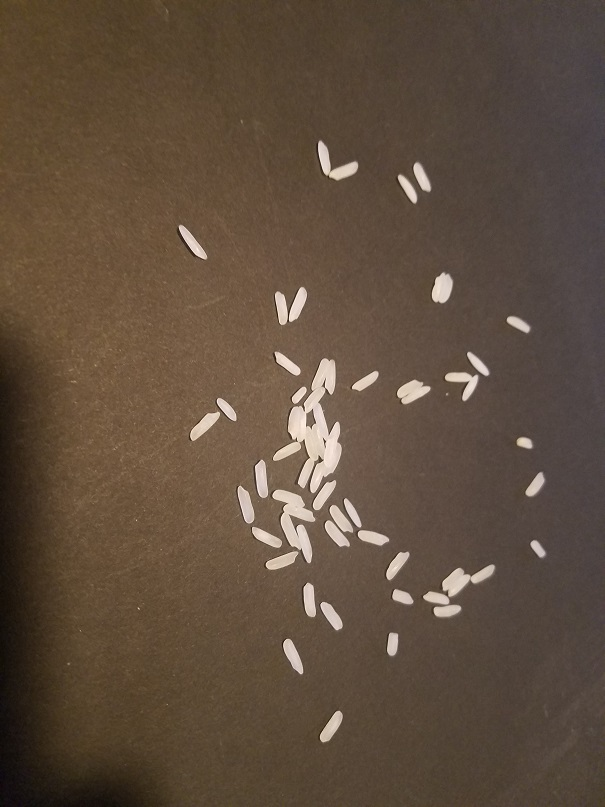egg: (174, 221, 211, 262), (277, 636, 310, 676), (270, 344, 307, 379), (185, 412, 221, 444), (311, 136, 335, 183), (318, 708, 348, 744), (232, 484, 257, 527), (324, 504, 356, 537), (287, 283, 309, 328), (463, 347, 496, 377), (395, 170, 420, 209), (274, 514, 301, 550), (320, 600, 348, 634), (295, 522, 317, 565), (251, 456, 272, 500), (521, 466, 549, 499), (385, 548, 412, 582), (411, 160, 437, 195), (341, 493, 366, 529), (322, 519, 351, 550), (327, 158, 361, 184), (348, 367, 380, 394), (354, 527, 391, 550), (400, 386, 434, 411), (265, 549, 301, 572), (468, 561, 499, 587), (250, 526, 283, 550), (504, 311, 535, 336), (312, 479, 337, 509), (421, 586, 455, 608), (312, 351, 330, 392), (295, 455, 316, 490), (301, 581, 320, 619), (323, 421, 341, 461), (439, 565, 465, 592), (268, 487, 306, 505), (268, 439, 302, 459), (446, 573, 472, 599), (394, 376, 422, 400), (461, 371, 483, 401), (274, 286, 290, 327), (526, 534, 550, 561), (216, 395, 239, 423), (282, 505, 317, 523), (439, 269, 457, 304), (304, 383, 328, 409), (301, 425, 318, 461), (327, 356, 341, 398), (310, 460, 328, 492), (312, 399, 328, 433), (390, 586, 417, 606), (444, 365, 472, 384), (514, 431, 536, 455), (385, 628, 402, 658), (328, 442, 345, 472), (429, 270, 443, 305), (288, 382, 310, 404), (433, 604, 463, 620), (288, 405, 301, 438), (296, 404, 306, 436)
